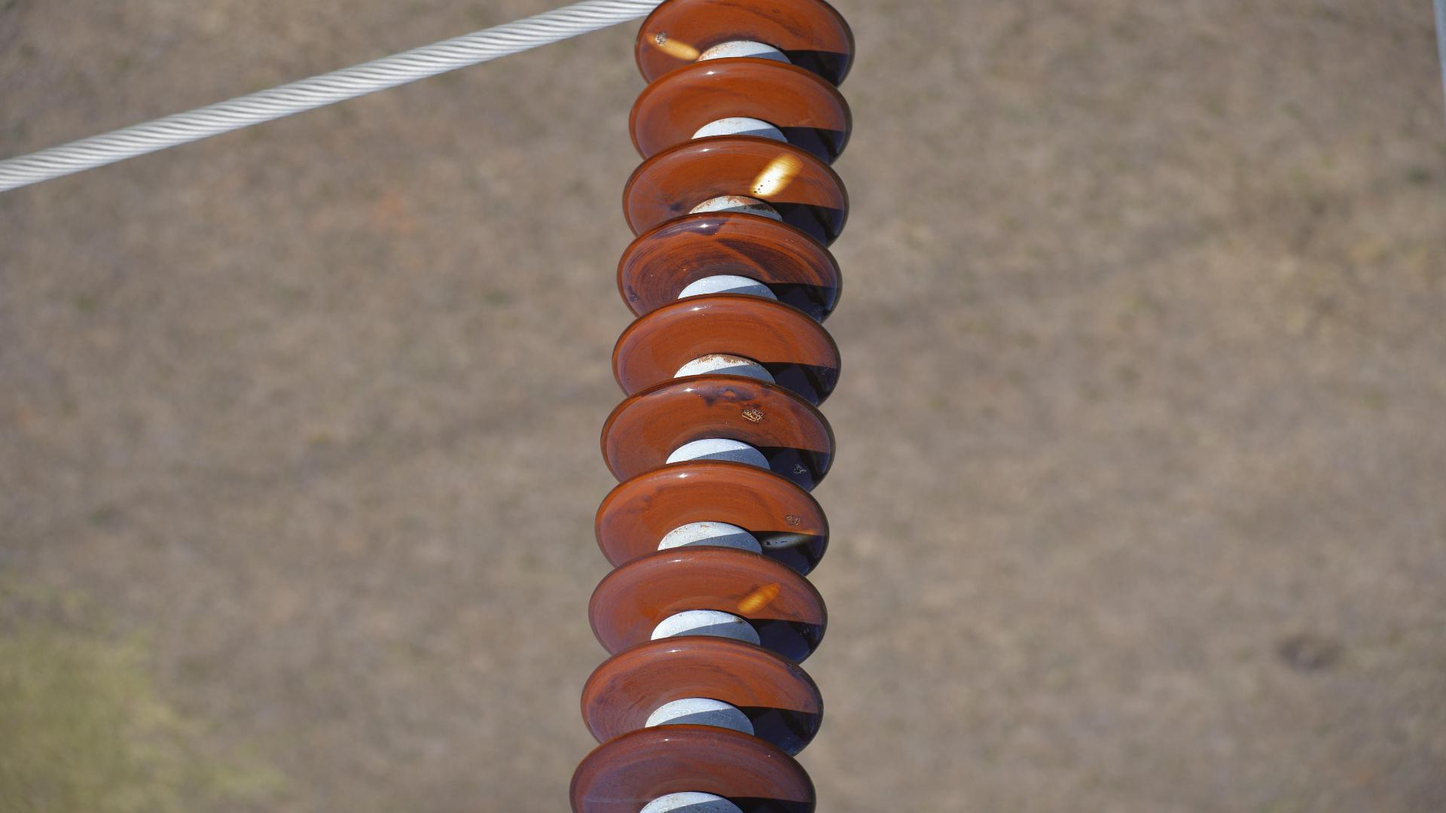insulator: (562, 1, 860, 813)
insulator_flashover: (748, 148, 805, 201), (639, 26, 702, 66), (736, 579, 783, 618), (758, 523, 819, 553)
